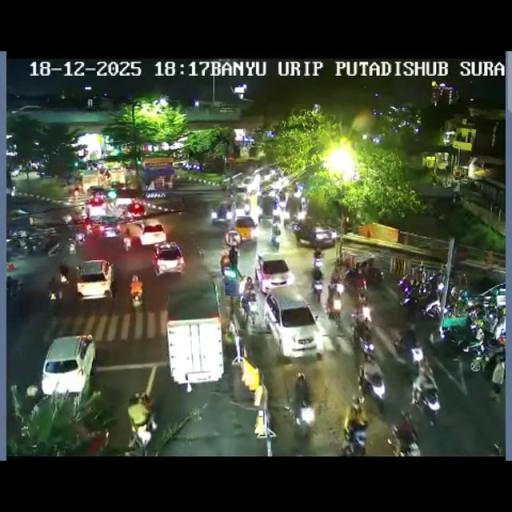Car: (166, 317, 224, 387), (262, 288, 318, 357), (40, 333, 94, 398), (75, 259, 114, 299), (254, 256, 294, 293), (289, 219, 339, 248), (151, 242, 186, 276), (88, 214, 124, 238), (135, 222, 165, 246), (232, 215, 258, 242), (114, 187, 144, 207), (210, 201, 234, 226), (86, 196, 108, 219), (232, 192, 253, 215), (257, 166, 280, 186), (258, 206, 275, 228), (238, 174, 257, 192), (86, 186, 108, 198), (172, 160, 189, 170), (10, 166, 20, 177)
Motorcycle: (340, 315, 435, 452), (462, 329, 504, 373), (427, 321, 466, 360), (411, 367, 439, 418), (358, 354, 386, 400), (66, 426, 108, 456), (391, 416, 422, 456), (126, 412, 155, 454), (340, 420, 369, 456), (439, 294, 469, 324), (293, 396, 316, 434), (393, 330, 418, 364), (352, 316, 374, 354), (342, 266, 368, 296), (240, 290, 258, 326), (326, 286, 343, 322), (22, 384, 41, 412), (398, 276, 416, 305), (356, 292, 372, 324), (222, 316, 237, 350), (48, 280, 66, 307), (220, 250, 238, 276), (491, 357, 504, 393), (423, 296, 443, 319), (23, 234, 46, 254), (464, 302, 486, 322), (311, 276, 325, 305), (6, 238, 26, 258), (492, 312, 506, 340), (42, 234, 60, 254), (330, 266, 342, 292), (130, 285, 144, 307), (7, 278, 22, 298), (273, 196, 285, 218), (270, 228, 281, 250), (312, 250, 323, 270), (74, 228, 86, 246), (491, 441, 505, 456), (230, 207, 238, 226), (122, 236, 132, 251), (68, 239, 77, 255), (228, 186, 237, 201), (61, 213, 72, 225), (297, 207, 306, 221), (220, 180, 229, 192), (293, 186, 302, 198), (85, 221, 92, 235), (165, 178, 173, 190), (452, 190, 458, 204)
